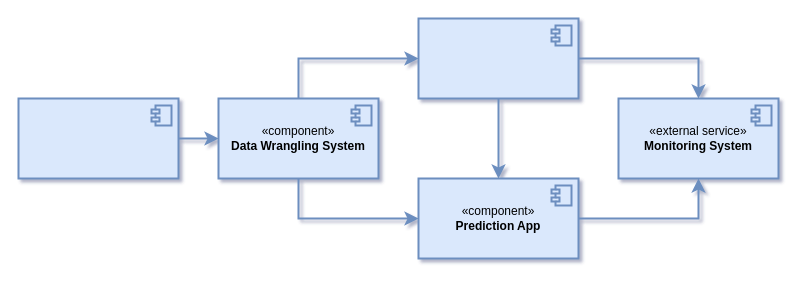
Image size: 802x282. Some labels were removed from this diagram. The box of each missing label's shape, as (x1, y1, x2, y2) in pixels:
«component» Data Exploration and Validation System: (17, 97, 179, 179)
«component» Model Engineering System: (417, 17, 579, 99)
